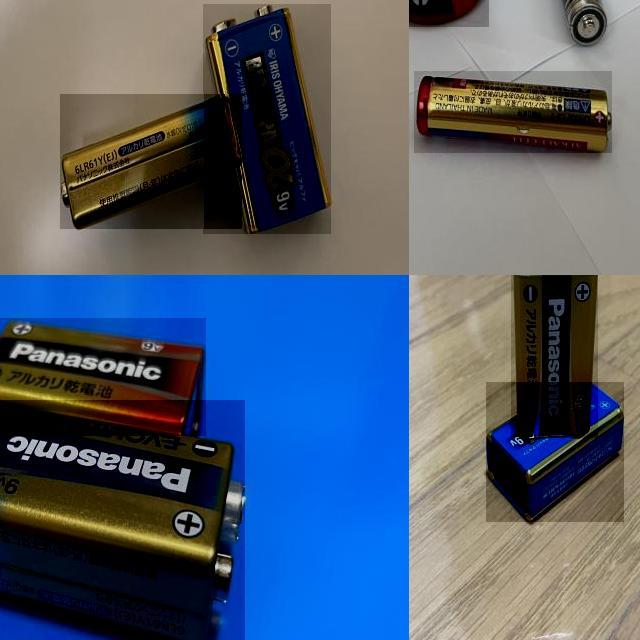9V: (0, 400, 245, 640), (204, 4, 332, 235), (60, 94, 242, 229), (0, 318, 206, 436), (486, 383, 624, 523), (511, 275, 598, 438)
